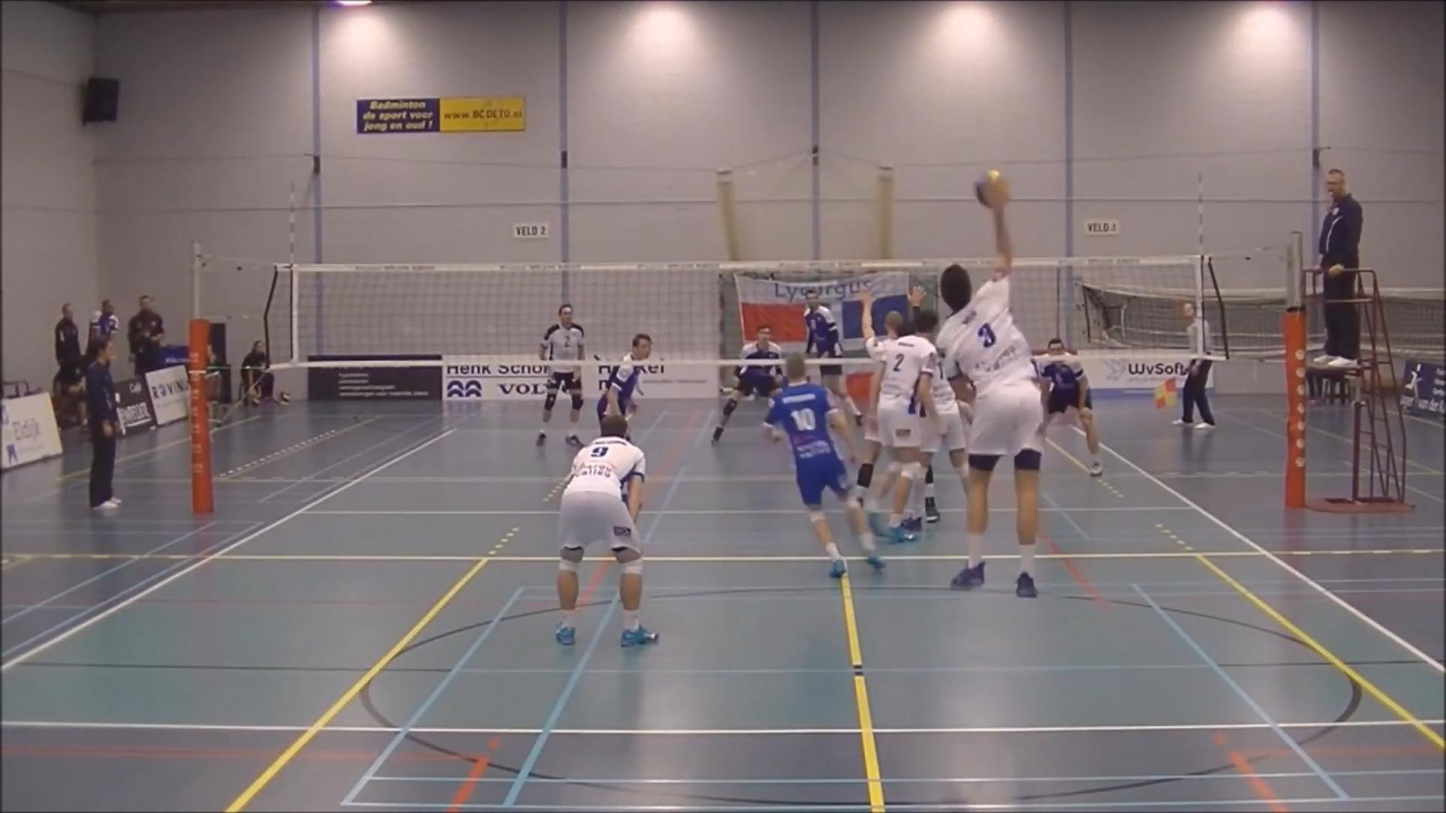battuta: (921, 170, 1053, 604)
